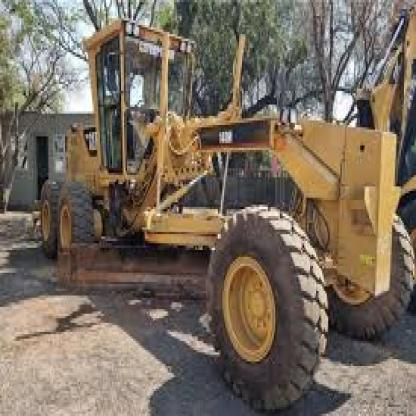bull_dozer/loader/grader: (34, 16, 414, 414)
